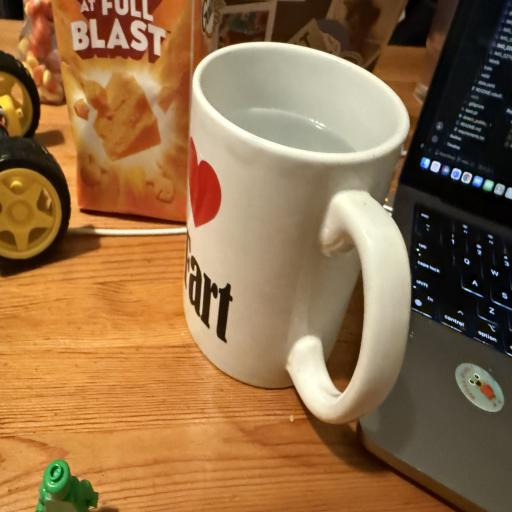Minifig: (36, 459, 98, 512)
